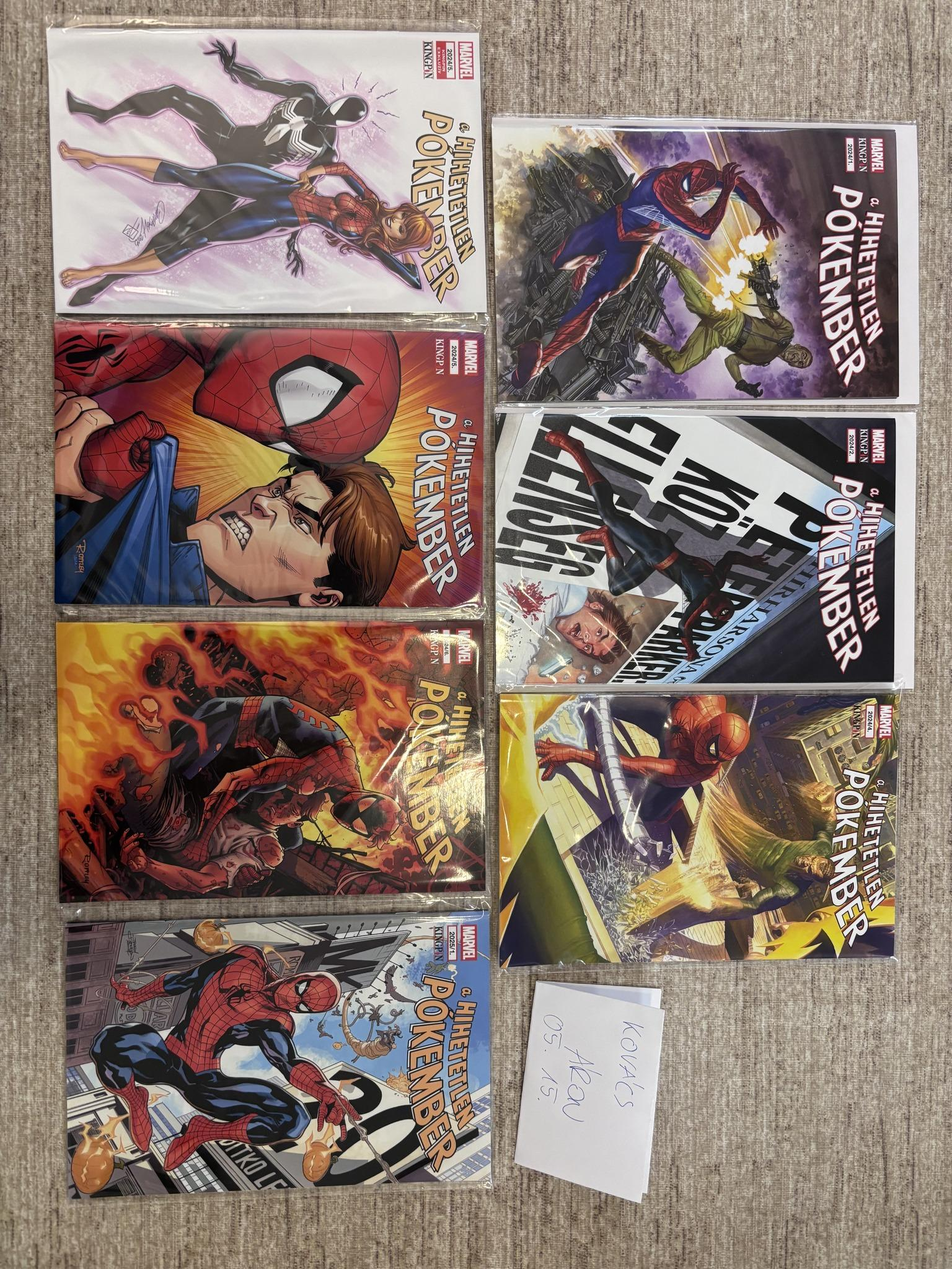comic: (60, 909, 497, 1199), (47, 27, 485, 314), (52, 320, 485, 609), (492, 117, 918, 402), (58, 620, 484, 901), (495, 404, 915, 689), (500, 693, 899, 965)
